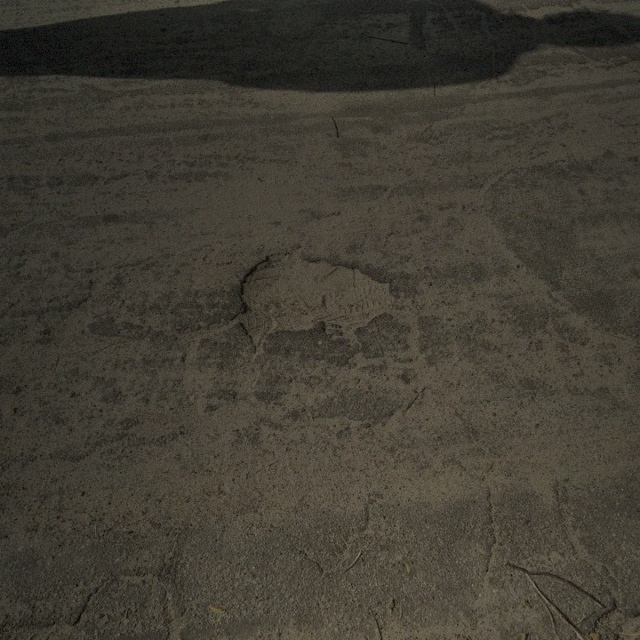pothole: (231, 244, 398, 352)
